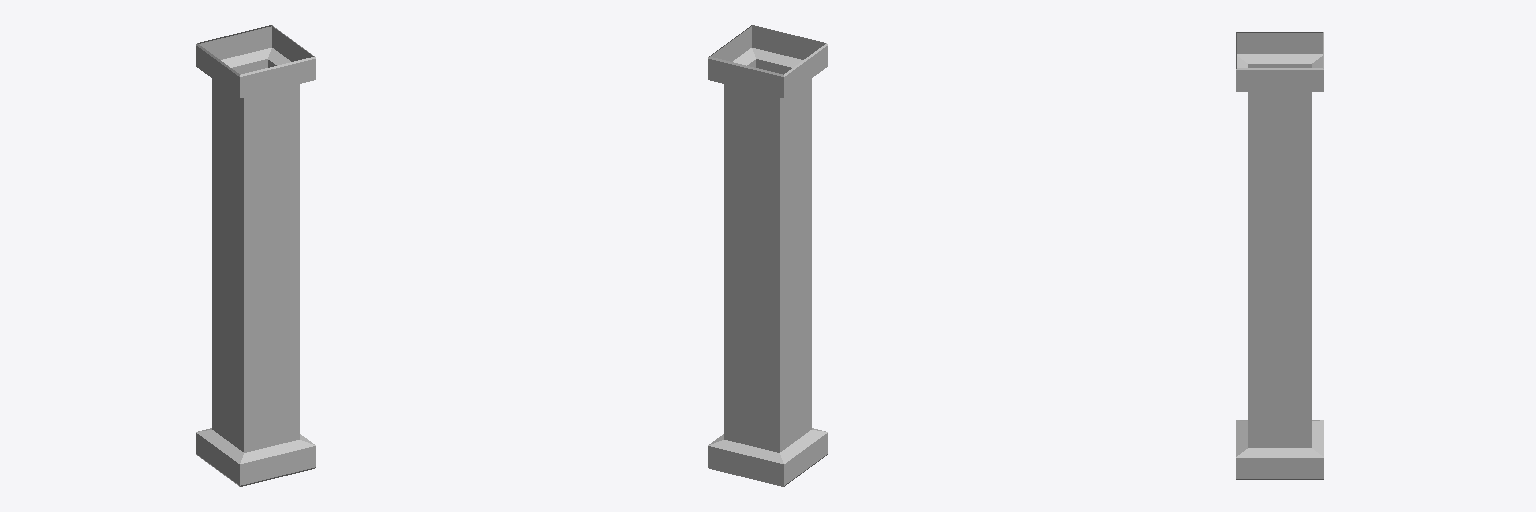
Rendered from column_7.obj.
The picture shows the model from 3 angles: view 1: azimuth 30°, elevation 25°; view 2: azimuth 150°, elevation 25°; view 3: azimuth 270°, elevation 25°; orthographic projection.
Parts seen in each view (by area): view 1: column_7; view 2: column_7; view 3: column_7.
Part boxes in pixels (bbox=[...]): column_7: bbox=[196, 25, 315, 486]; column_7: bbox=[708, 25, 827, 486]; column_7: bbox=[1236, 32, 1323, 479].
Bounding box in the file's own units: 0.4162 × 2.14 × 0.4162.